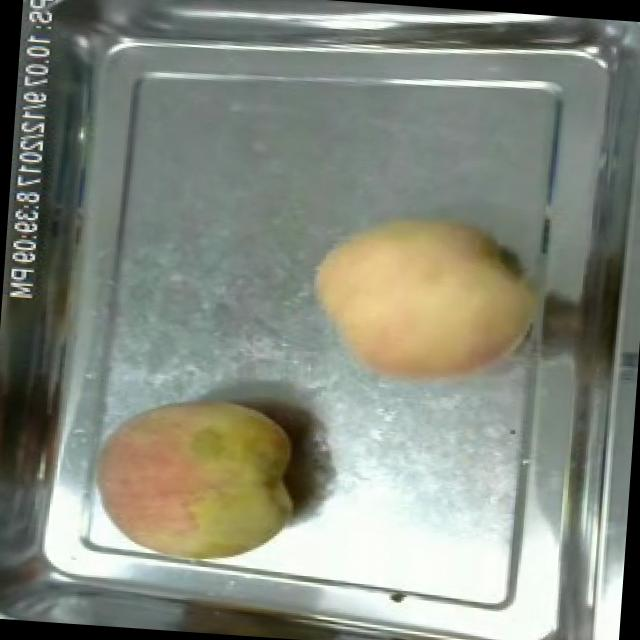Fruit: (298, 201, 540, 401), (79, 382, 307, 581)
